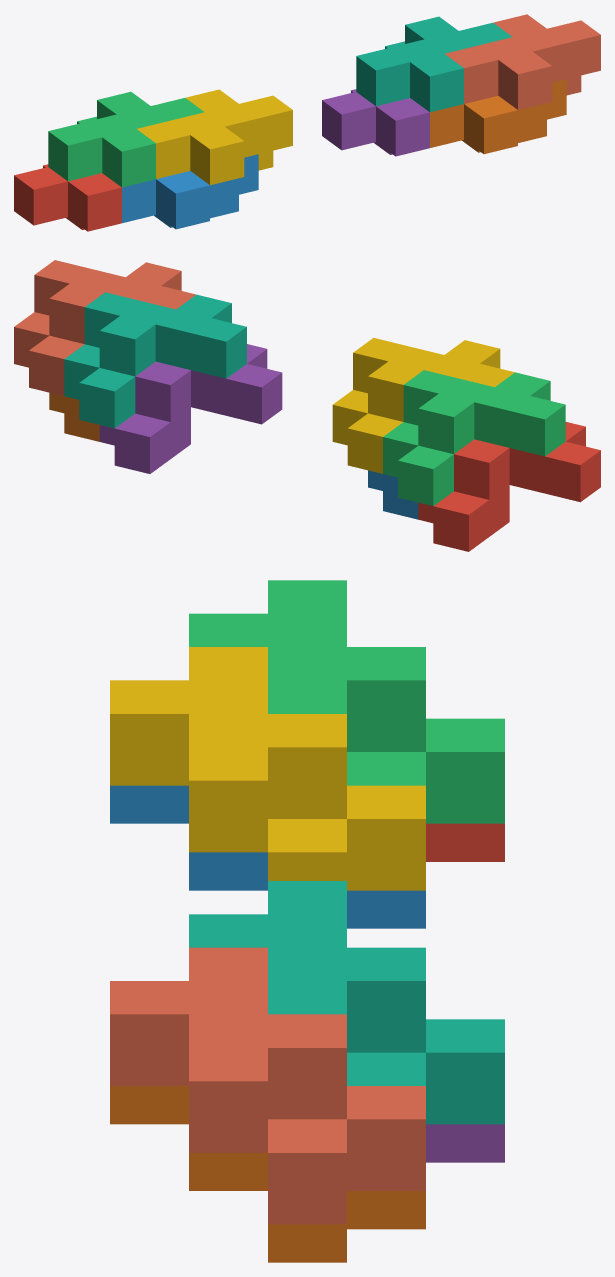
Rendered from tiling.obj.
3 views of the same model, one above another, from view 1: azimuth 30°, elevation 25°; view 2: azimuth 150°, elevation 25°; view 3: azimuth 270°, elevation 25° (orthographic). The views are drawn at different scales.
Parts seen in each view (by area): view 1: copy_1_domain_4, copy_1_domain_8, copy_1_domain_3, copy_1_domain_7, copy_1_domain_2, copy_1_domain_6, copy_1_domain_1, copy_1_domain_5; view 2: copy_1_domain_7, copy_1_domain_3, copy_1_domain_5, copy_1_domain_1, copy_1_domain_4, copy_1_domain_8, copy_1_domain_6, copy_1_domain_2; view 3: copy_1_domain_8, copy_1_domain_4, copy_1_domain_3, copy_1_domain_7, copy_1_domain_6, copy_1_domain_2, copy_1_domain_1, copy_1_domain_5.
Part boxes in pixels (x1=…): copy_1_domain_4: x1=137, y1=89, x2=292, y2=185; copy_1_domain_8: x1=444, y1=14, x2=600, y2=109; copy_1_domain_3: x1=48, y1=91, x2=204, y2=187; copy_1_domain_7: x1=356, y1=16, x2=512, y2=112; copy_1_domain_2: x1=122, y1=154, x2=258, y2=229; copy_1_domain_6: x1=430, y1=79, x2=566, y2=154; copy_1_domain_1: x1=14, y1=164, x2=121, y2=231; copy_1_domain_5: x1=322, y1=89, x2=429, y2=156; copy_1_domain_7: x1=64, y1=292, x2=246, y2=428; copy_1_domain_3: x1=383, y1=370, x2=565, y2=506; copy_1_domain_5: x1=99, y1=344, x2=282, y2=473; copy_1_domain_1: x1=418, y1=422, x2=600, y2=551; copy_1_domain_4: x1=332, y1=337, x2=514, y2=473; copy_1_domain_8: x1=14, y1=260, x2=195, y2=395; copy_1_domain_6: x1=49, y1=392, x2=99, y2=441; copy_1_domain_2: x1=368, y1=470, x2=418, y2=519; copy_1_domain_8: x1=110, y1=947, x2=425, y2=1224; copy_1_domain_4: x1=110, y1=647, x2=425, y2=890; copy_1_domain_3: x1=189, y1=580, x2=504, y2=823; copy_1_domain_7: x1=189, y1=881, x2=504, y2=1124; copy_1_domain_6: x1=110, y1=1086, x2=425, y2=1262; copy_1_domain_2: x1=110, y1=785, x2=425, y2=928; copy_1_domain_1: x1=426, y1=823, x2=504, y2=861; copy_1_domain_5: x1=426, y1=1124, x2=504, y2=1162.
Size of the model in its own units: 16 by 3 by 5.
